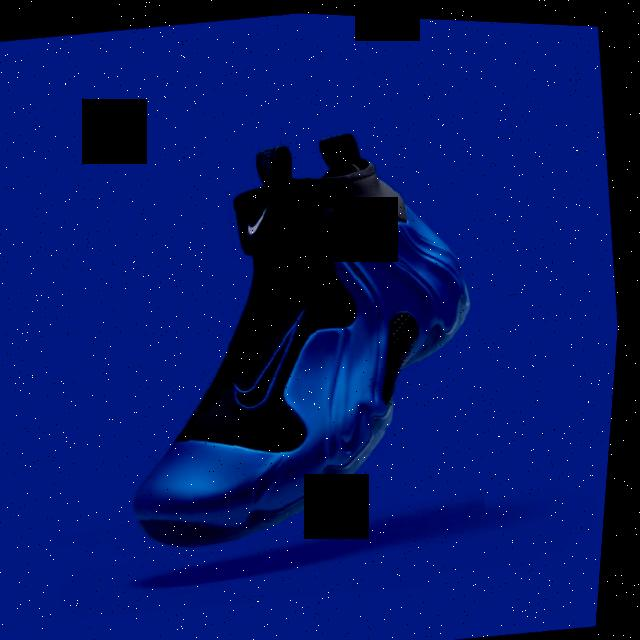shoe: (78, 106, 518, 570)
